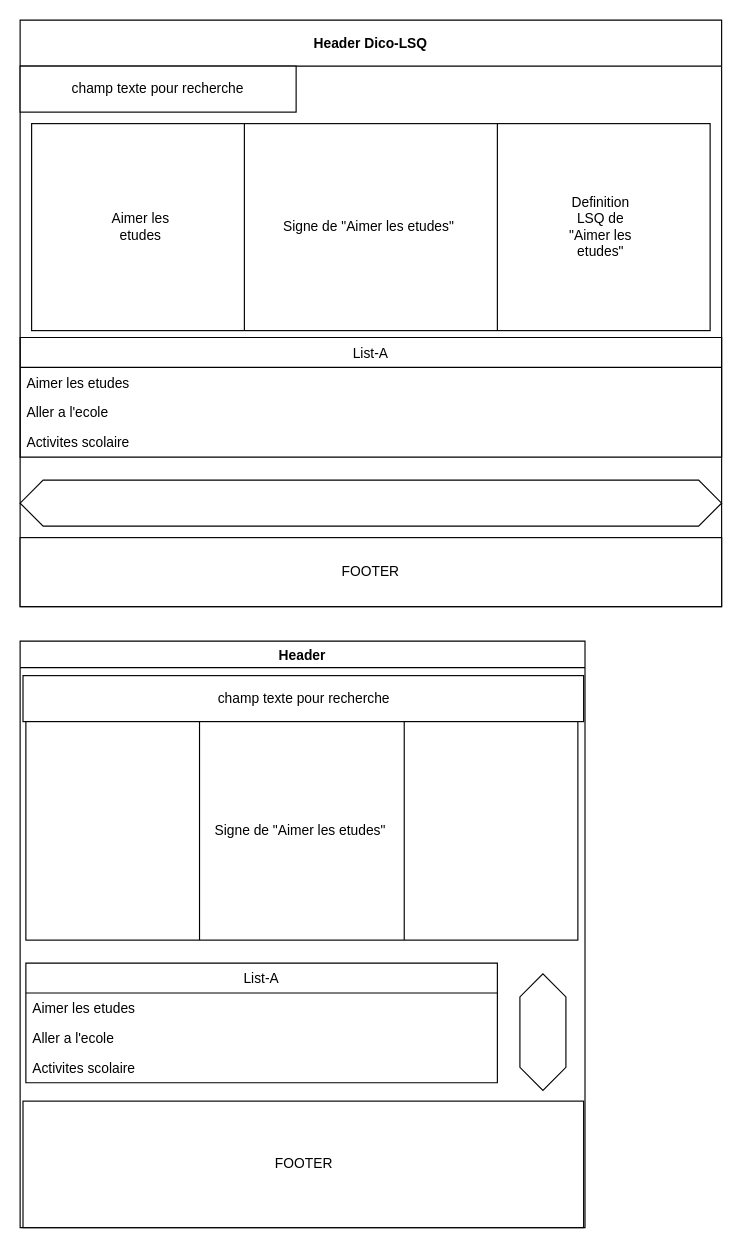
Image size: 742x1248. Some labels were removed from this diagram. Each missing label, with the centre of its shape:
"Bare de navigation de la pagination du dictionaire" goes at (370,502).
"pagination du dictionaire" goes at (542,1031).
